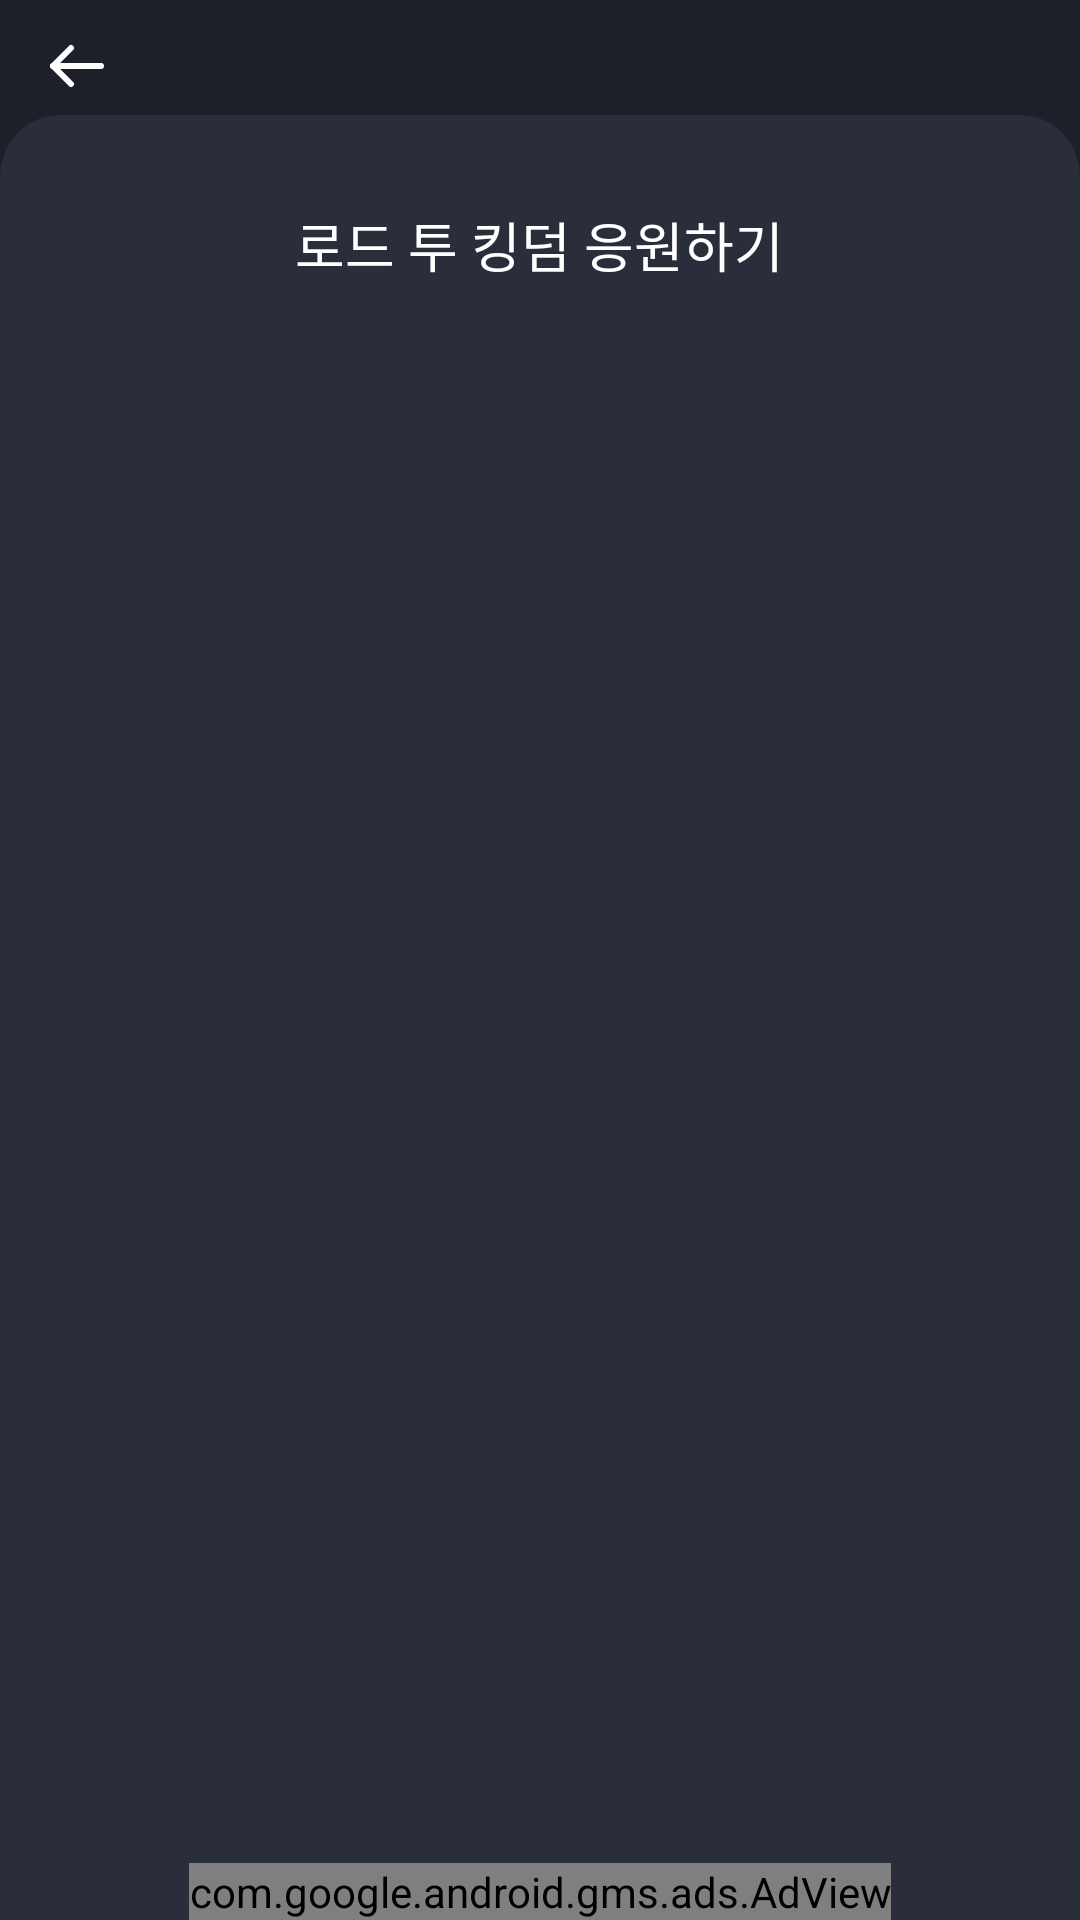

Named icons in this screenshot (1080 x 1920) and their bounding boxes, (x1, y1, x2, y2):
back: (50, 44, 104, 87)
